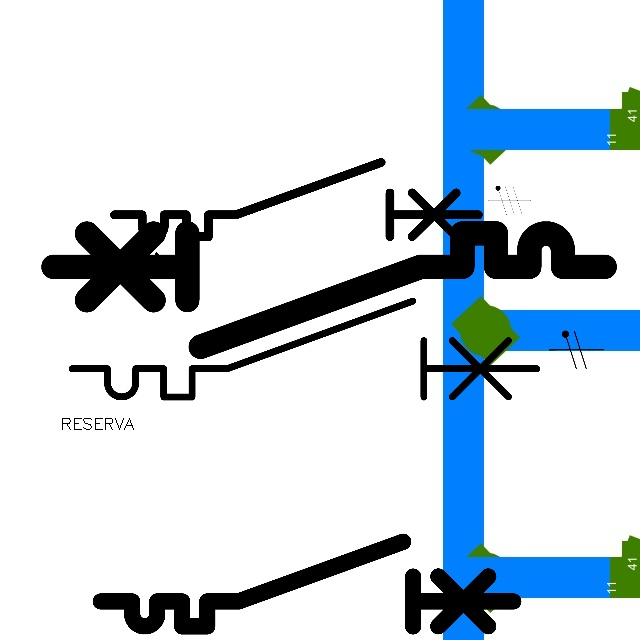interruptor_termomagnetico: (39, 219, 619, 361), (60, 289, 549, 409), (90, 531, 523, 637), (105, 153, 487, 246)
